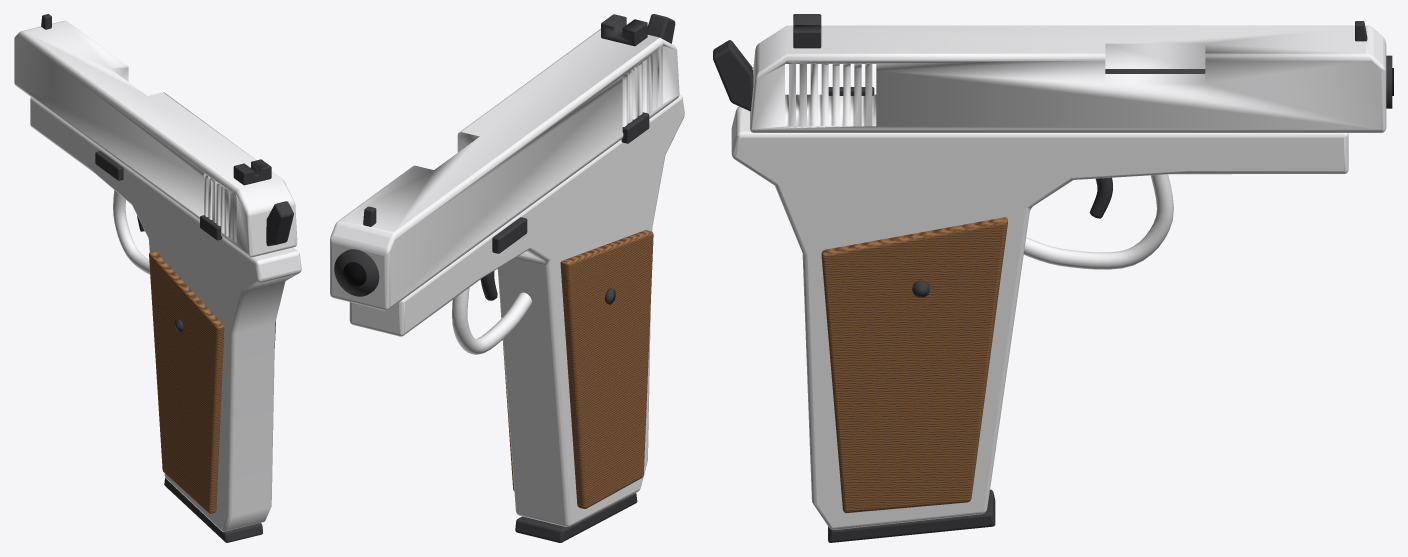
The model's file is Weapon_Pistol.fbx.
The picture shows the model from 3 angles, left to right: view 1: azimuth 30°, elevation 25°; view 2: azimuth 150°, elevation 25°; view 3: azimuth 270°, elevation 25°; orthographic projection. The views are drawn at different scales.
Visible parts, largest first — view 1: Weapon_Pistol_Game; view 2: Weapon_Pistol_Game; view 3: Weapon_Pistol_Game.
Part boxes in pixels (x1,y1,x2,y2): Weapon_Pistol_Game: (14,14,301,542); Weapon_Pistol_Game: (330,14,684,542); Weapon_Pistol_Game: (713,14,1393,542).
Bounding box in the file's own units: 0.0328 × 0.1799 × 0.2182.
